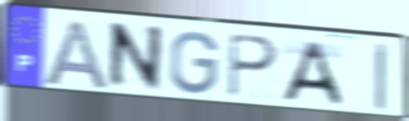A: (40, 18, 112, 92), (278, 39, 345, 107)
G: (167, 29, 221, 97)
I: (373, 42, 389, 114)
N: (105, 21, 165, 94)
P: (226, 32, 280, 100)
